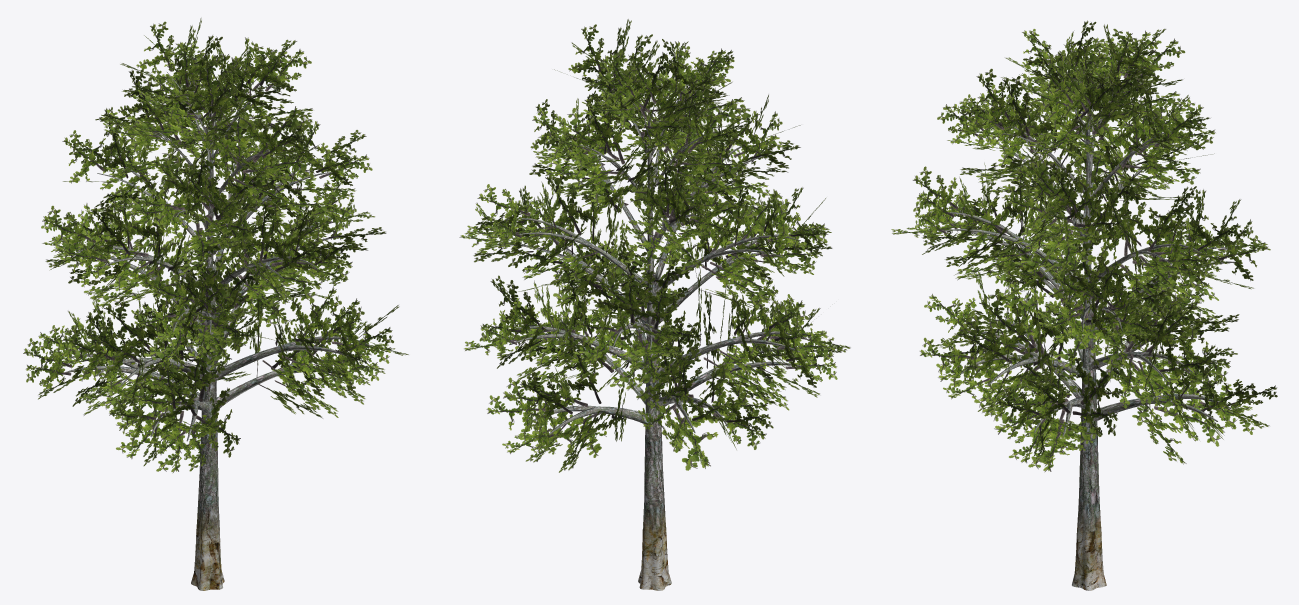
The model's file is tree.glb.
3 renders of one model, left to right at view 1: azimuth 30°, elevation 25°; view 2: azimuth 150°, elevation 25°; view 3: azimuth 270°, elevation 25°, orthographic.
Visible parts, largest first — view 1: LowPolyTree, LowPolyTree.002; view 2: LowPolyTree, LowPolyTree.002; view 3: LowPolyTree, LowPolyTree.002.
Part boxes in pixels (x1,y1,x2,y2): LowPolyTree: [23, 18, 408, 472]; LowPolyTree.002: [65, 69, 369, 590]; LowPolyTree: [459, 19, 850, 472]; LowPolyTree.002: [499, 74, 806, 590]; LowPolyTree: [891, 20, 1277, 471]; LowPolyTree.002: [933, 66, 1236, 590].
Size of the model in its own units: 4.82 by 7.17 by 4.62.
2 materials, 2 textured.
